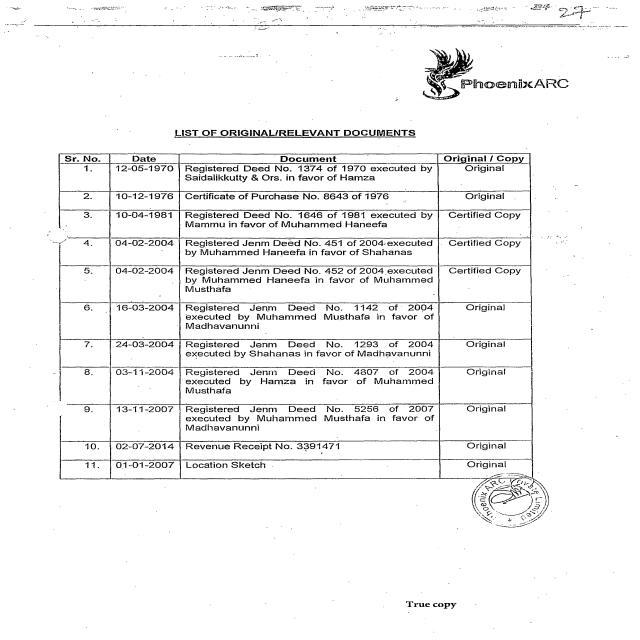page-number: (506, 0, 639, 24)
